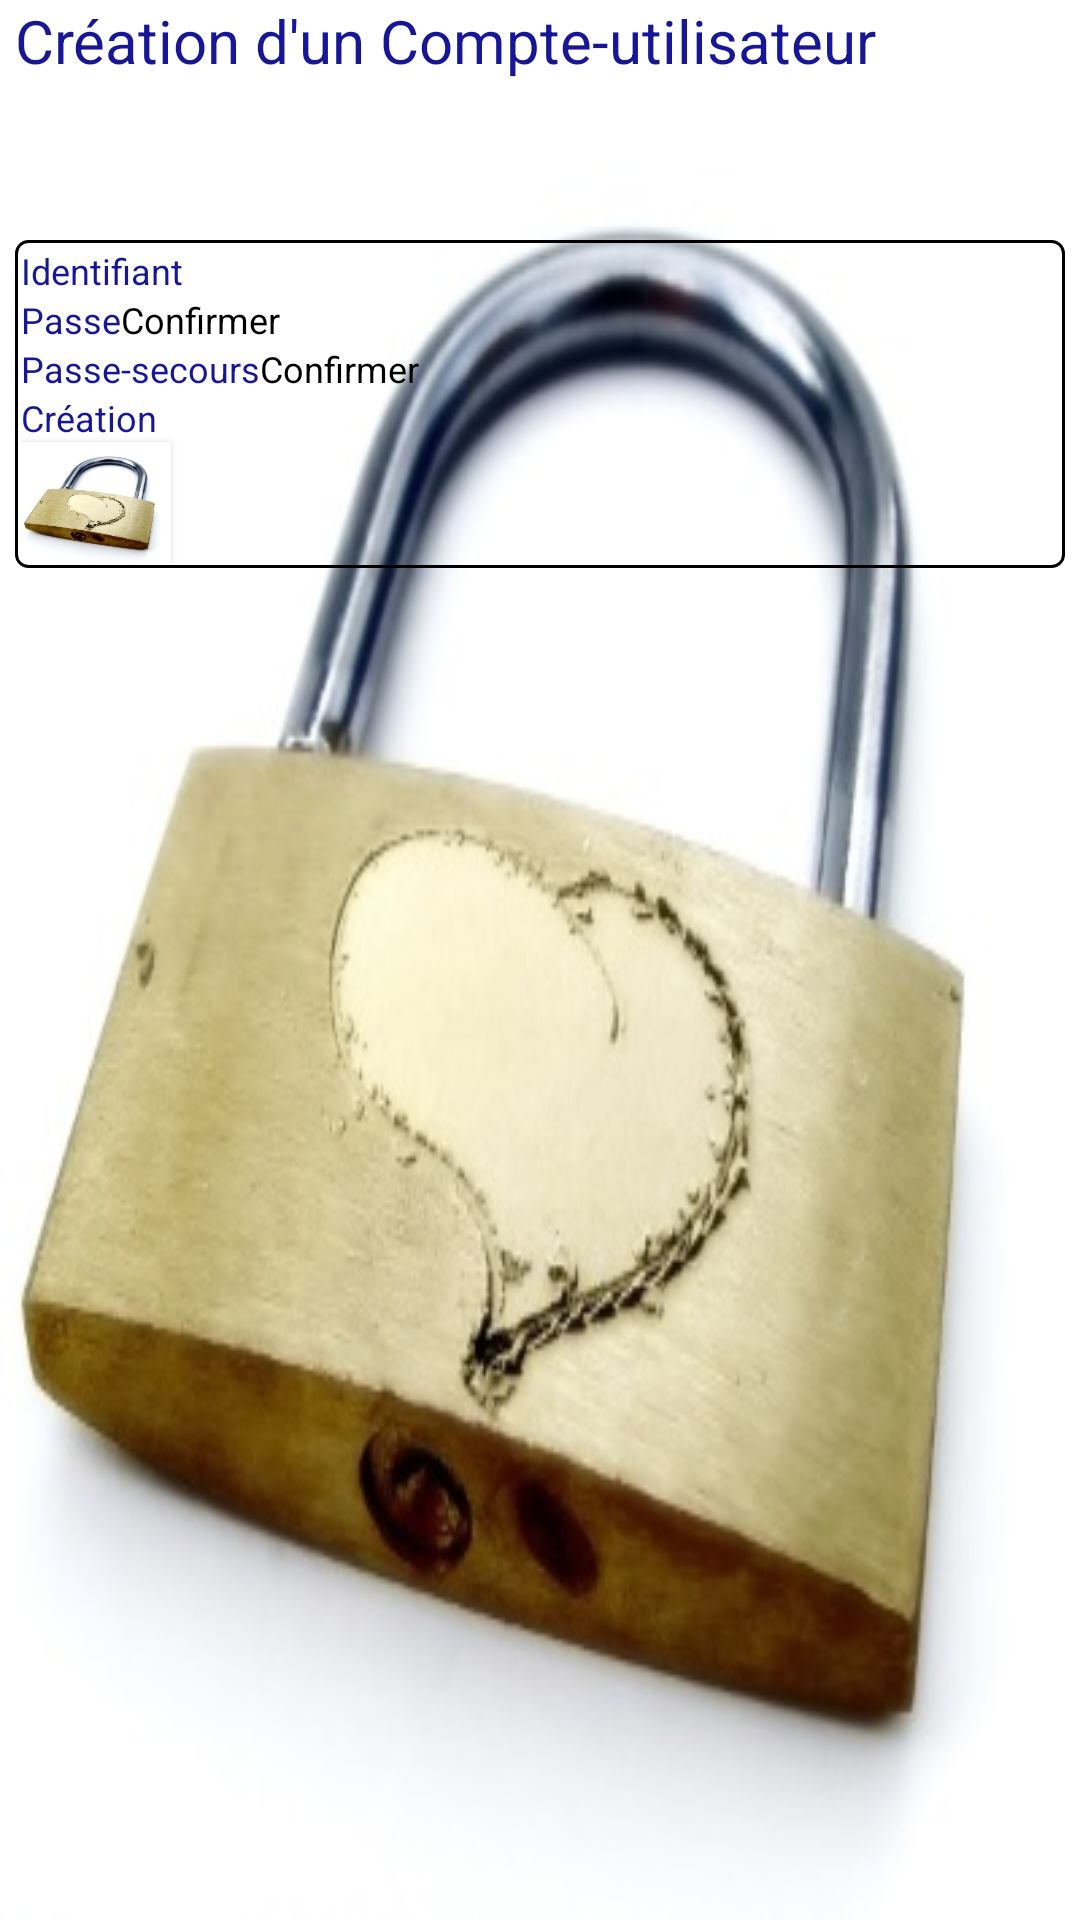

Point at icon controls on the screen. Image size 1080px x 1920px, points as (x=x, y=y).
cadnas: (x=89, y=505)
